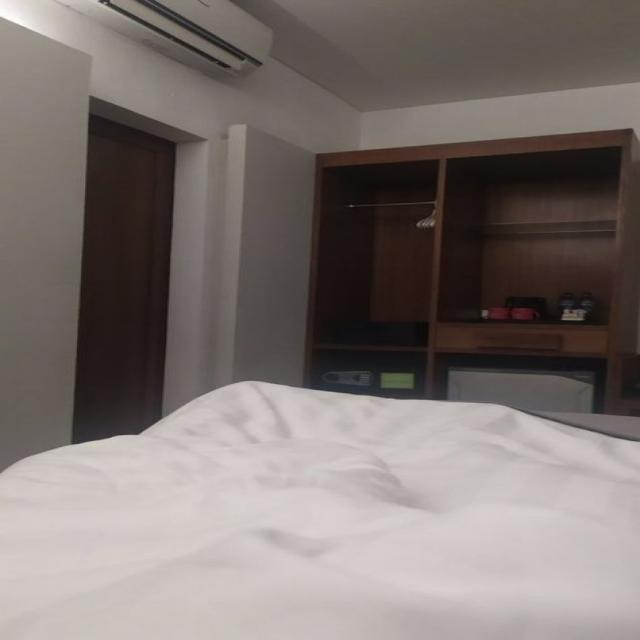AC: (66, 0, 273, 82)
